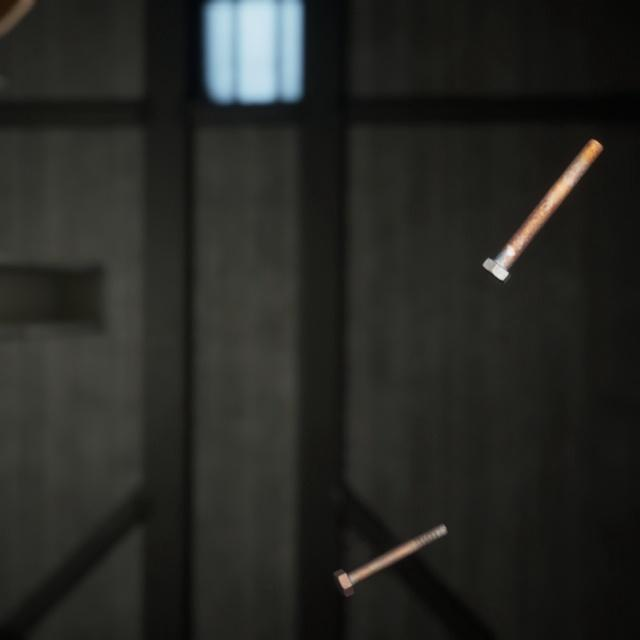bolt: (477, 119, 607, 273), (328, 497, 452, 579)
